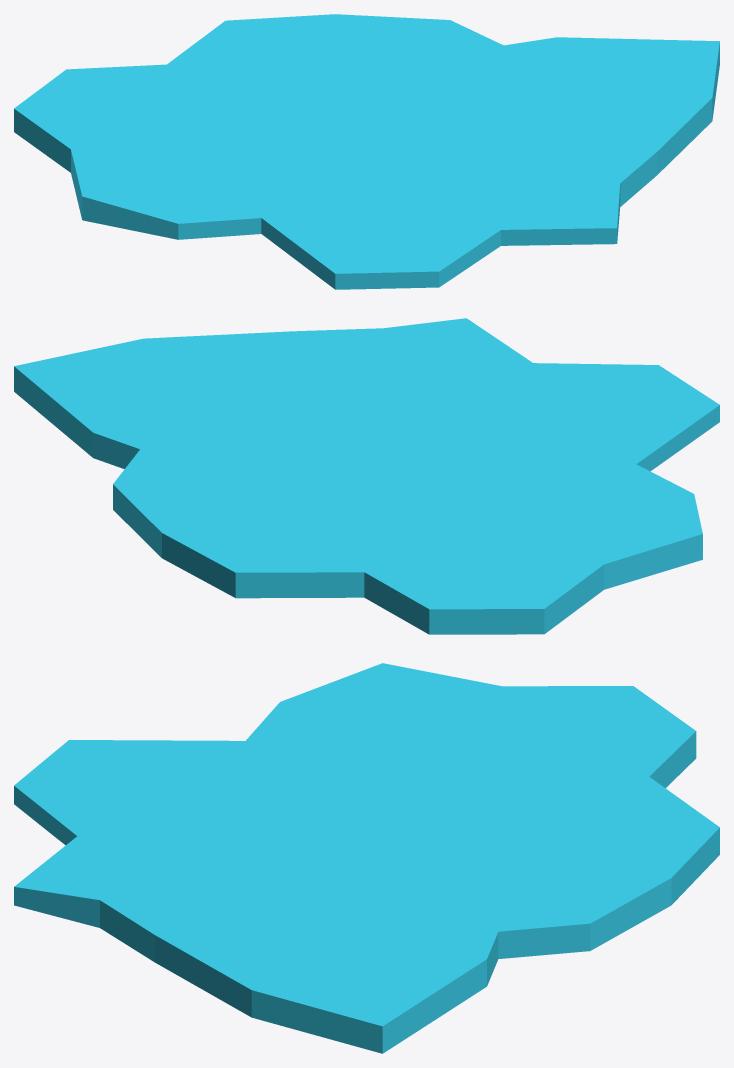
File: Lago.fbx
3 renders of one model, top to bottom at view 1: azimuth 30°, elevation 25°; view 2: azimuth 150°, elevation 25°; view 3: azimuth 270°, elevation 25°, orthographic. The views are drawn at different scales.
Parts seen in each view (by area): view 1: Cylinder; view 2: Cylinder; view 3: Cylinder.
Part boxes in pixels (x1,y1,x2,y2): Cylinder: (14, 14, 719, 289); Cylinder: (14, 318, 719, 634); Cylinder: (14, 663, 719, 1053).
Size of the model in its own units: 222 by 7.94 by 182.
